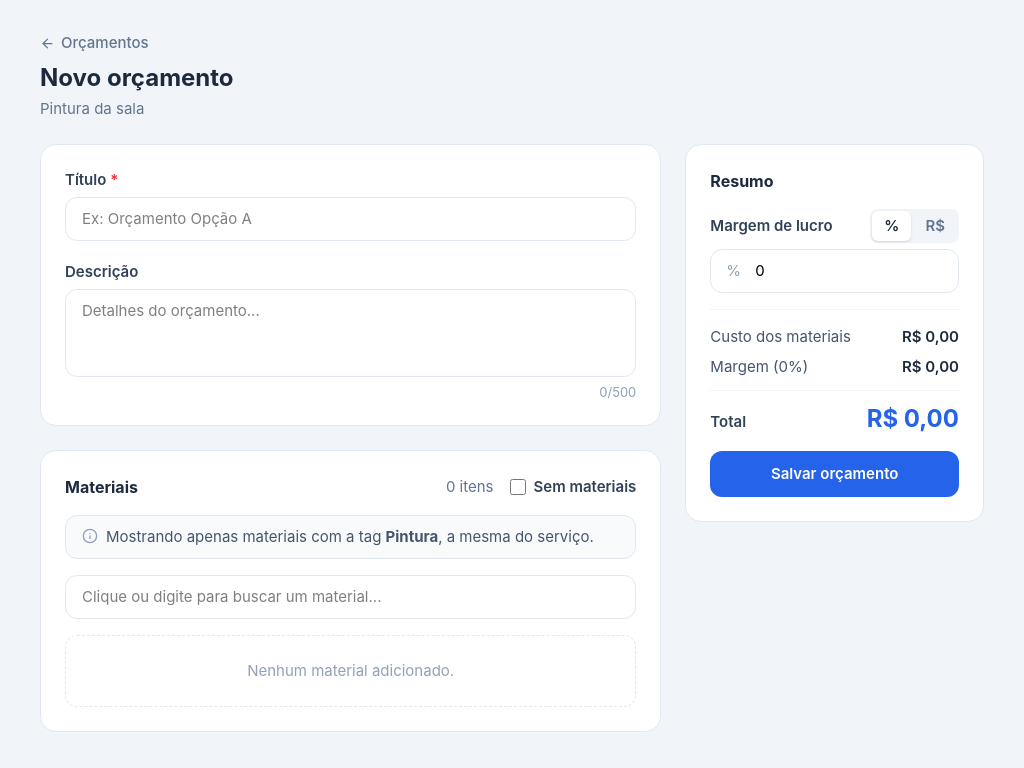
Scenario: novo orçamento › não salva sem título nem com quantidade zero
Expected: the text "a mesma do serviço" is shown, [438,527,594,546]
Click the button "Salvar orçamento" at (835, 474), box [710,451,959,497]
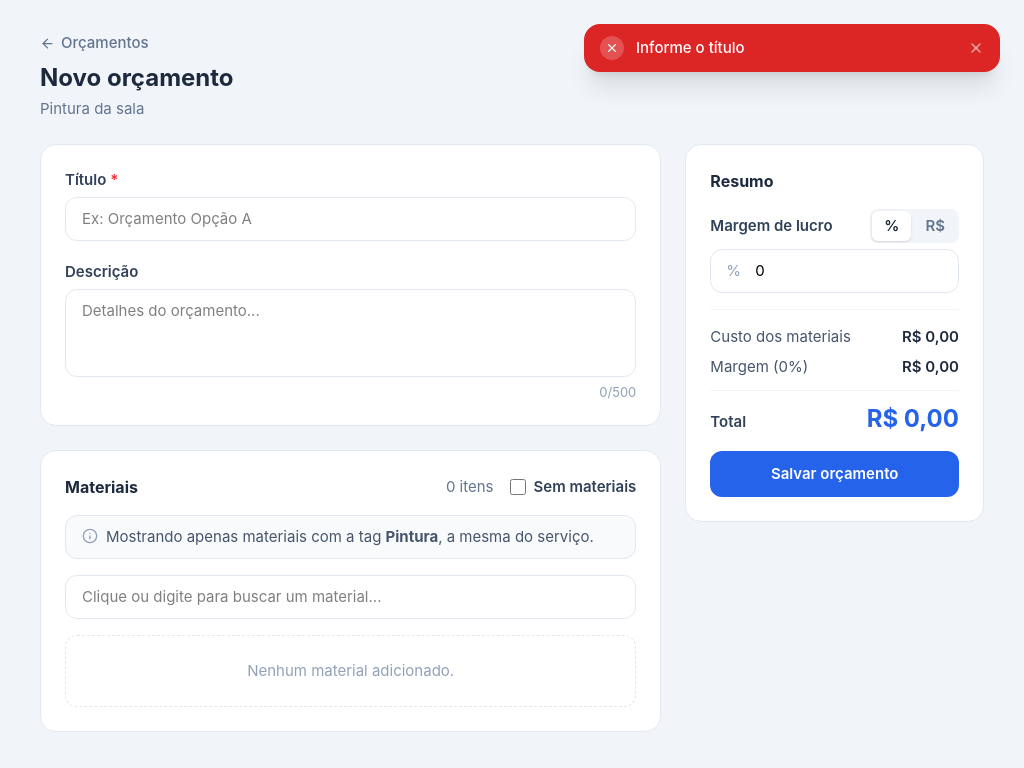
Now the text "Informe o título" is shown, box [636,38,744,57]
Type "Opção A" into the field with placeholder "Ex: Orçamento Opção A" at (351, 219), box [65,197,636,241]
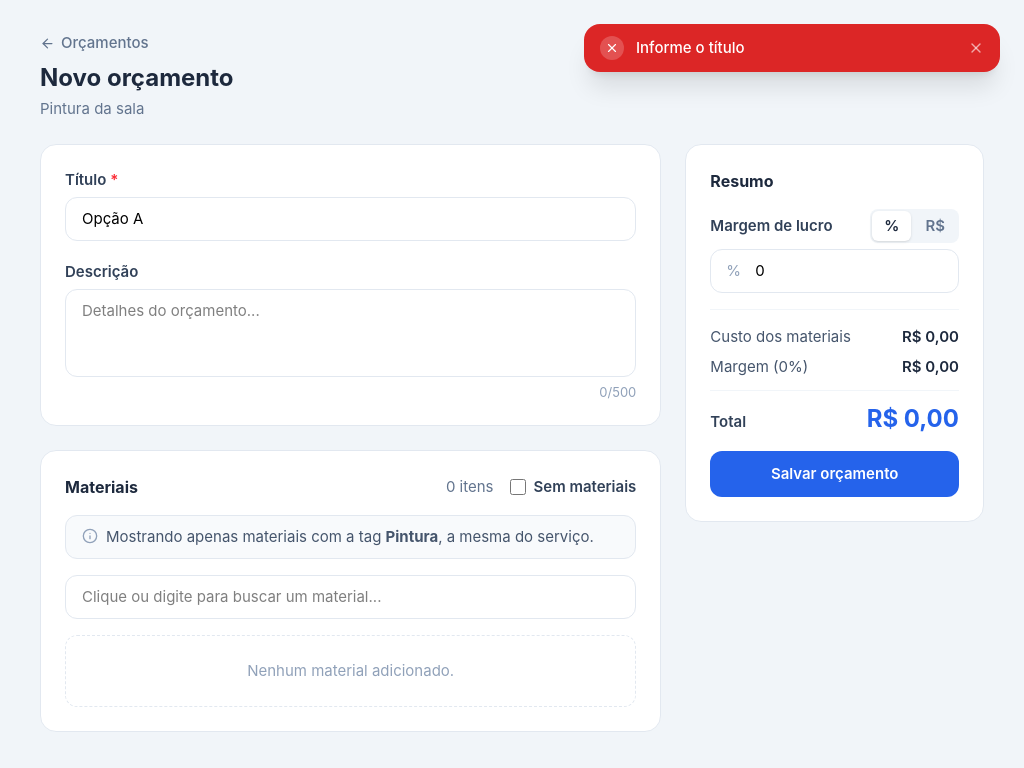
Focus the field with placeholder "Clique ou digite para buscar um material..." at (351, 597), box [65,575,636,619]
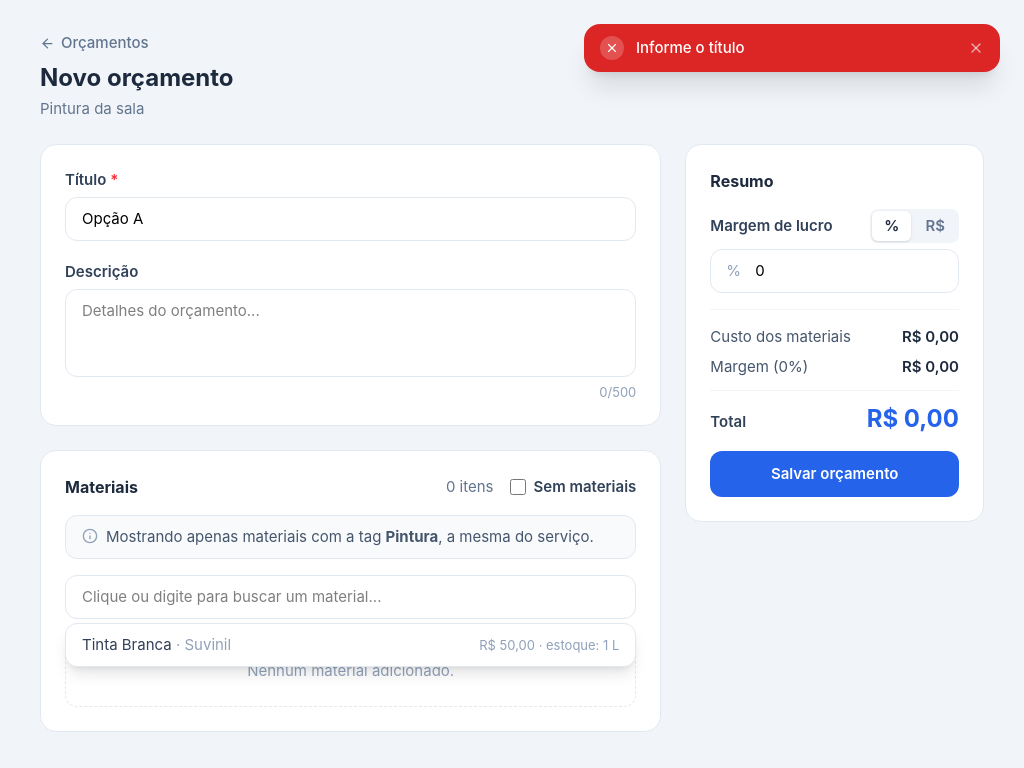
Press the mouse on the button "Tinta Branca · Suvinil R$ 50,00 · estoque: 1 L" at (127, 645), box [66,624,635,666]
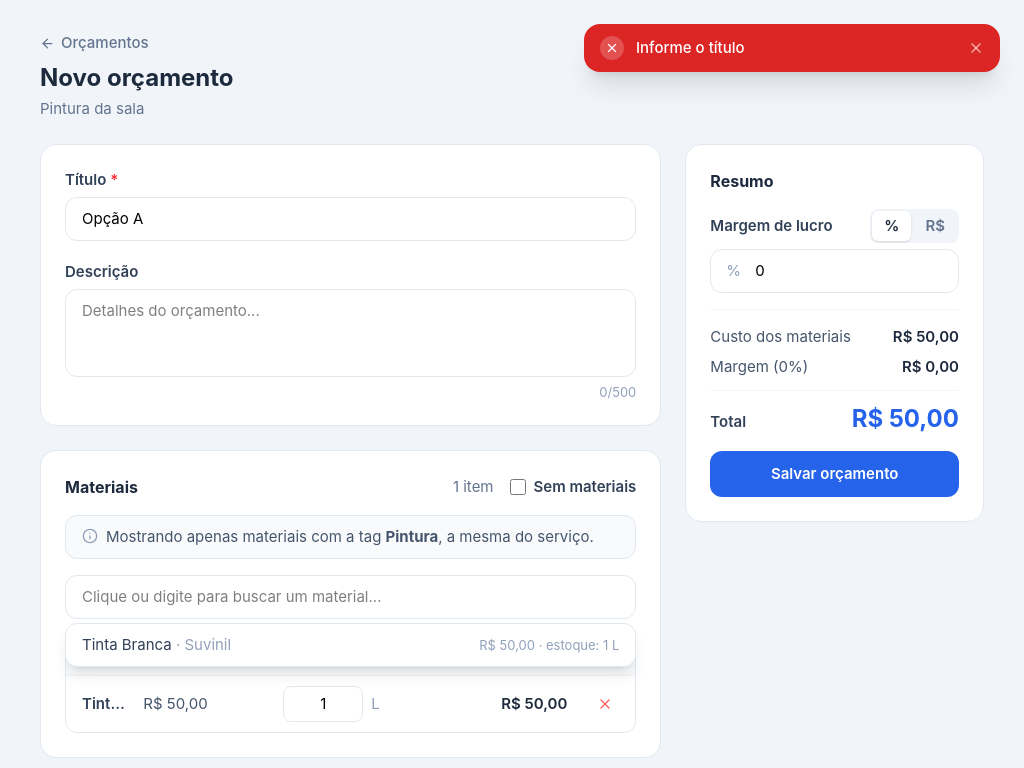
Replace the text in the field named "Quantidade de Tinta Branca" with "0" at (323, 704), box [283,686,363,722]
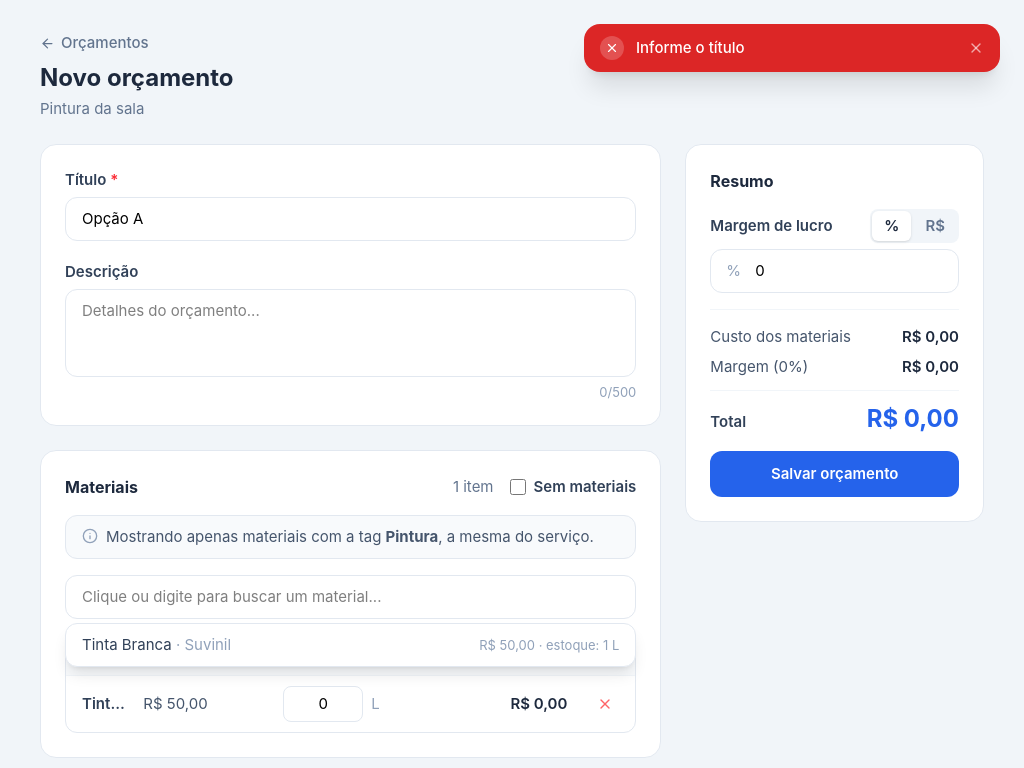
Click the button "Salvar orçamento" at (835, 474), box [710,451,959,497]
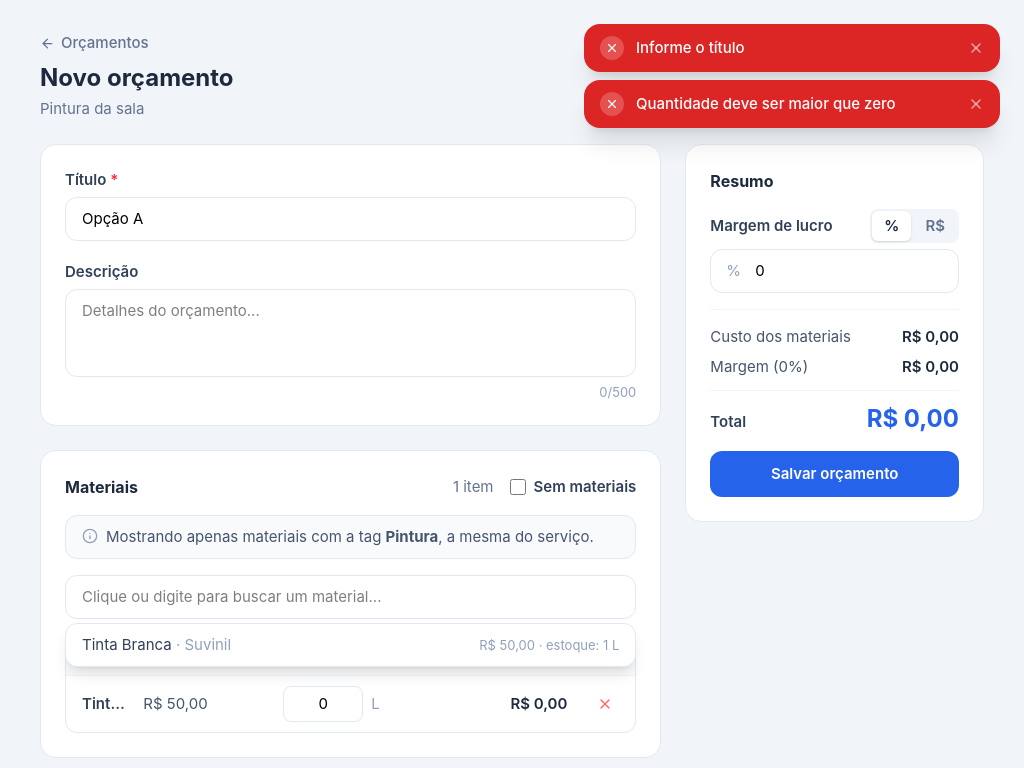
Now the text "Quantidade deve ser maior que zero" is shown, box [636,94,896,113]
